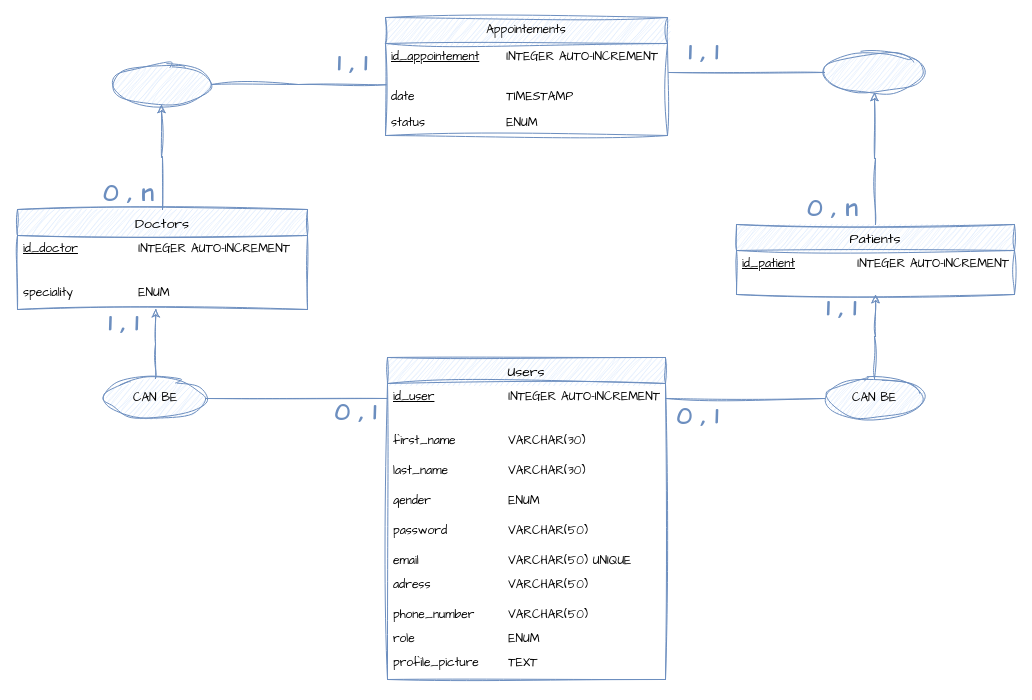
Image size: 1032x700. Some labels were removed from this diagram. The shapes that lost their labels are listed below. From the top down, each one's centre as x and y in pixels, then its label:
the point at 161,84: PROVIDES
the point at 874,72: RESERVE
